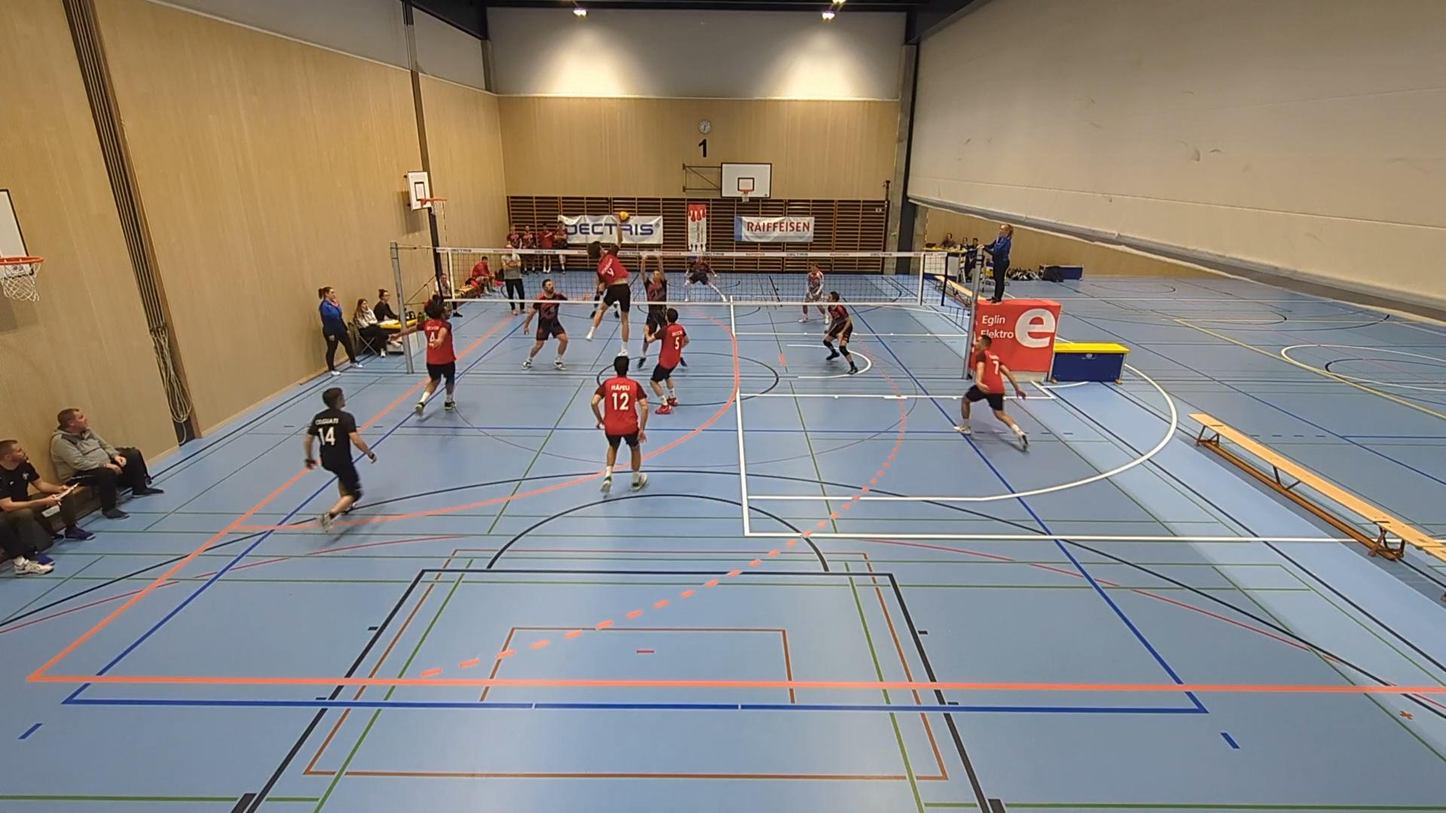Attack: (585, 227, 632, 354)
Player: (304, 388, 376, 530), (954, 334, 1028, 449), (591, 355, 647, 492), (404, 303, 456, 415), (522, 278, 567, 370), (650, 308, 688, 413), (637, 257, 667, 370), (823, 291, 857, 374), (685, 256, 722, 300), (799, 264, 825, 321)
ball: (617, 210, 630, 218)
